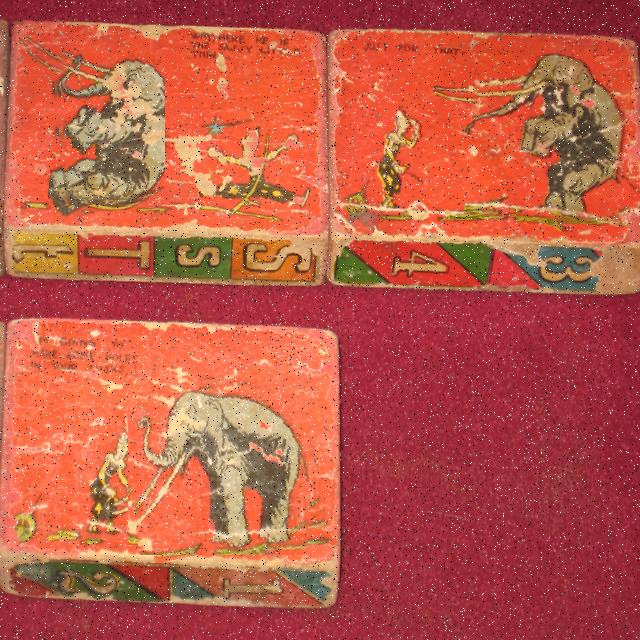elephant: (128, 370, 319, 555), (467, 56, 630, 224), (51, 50, 165, 206)
